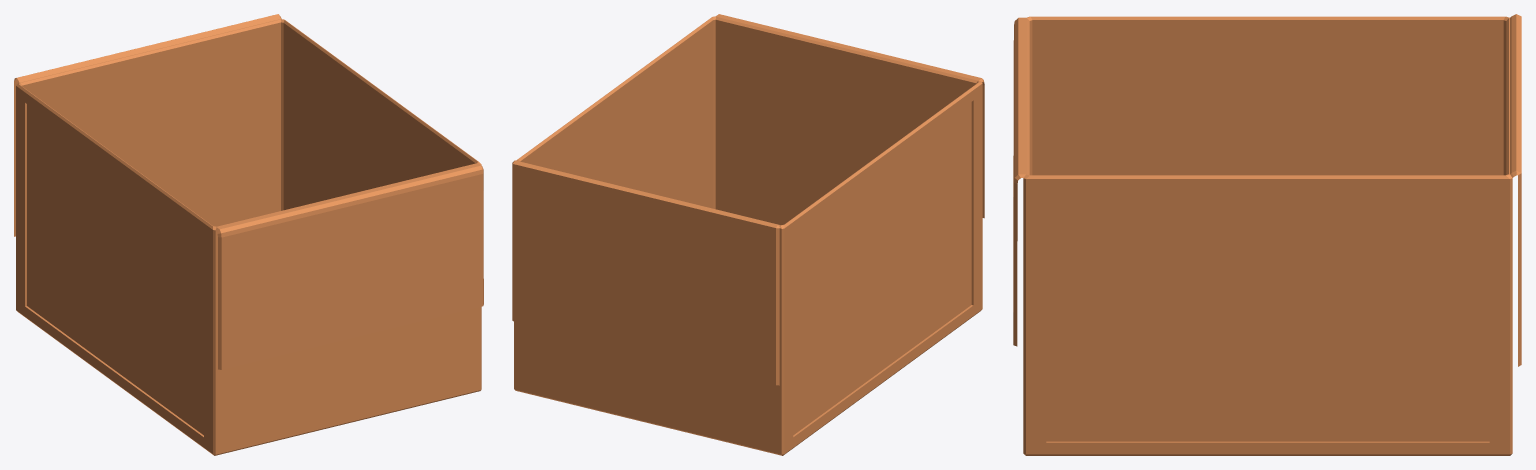
File: DebrisBox.fbx
3 renders of one model, left to right at view 1: azimuth 30°, elevation 25°; view 2: azimuth 150°, elevation 25°; view 3: azimuth 270°, elevation 25°, orthographic. The views are drawn at different scales.
Parts seen in each view (by area): view 1: Plane; view 2: Plane; view 3: Plane.
Part boxes in pixels (x1,y1,x2,y2): Plane: (14, 14, 483, 455); Plane: (512, 14, 984, 455); Plane: (1013, 14, 1521, 455).
Bounding box in the file's own units: 156 × 128 × 208.
